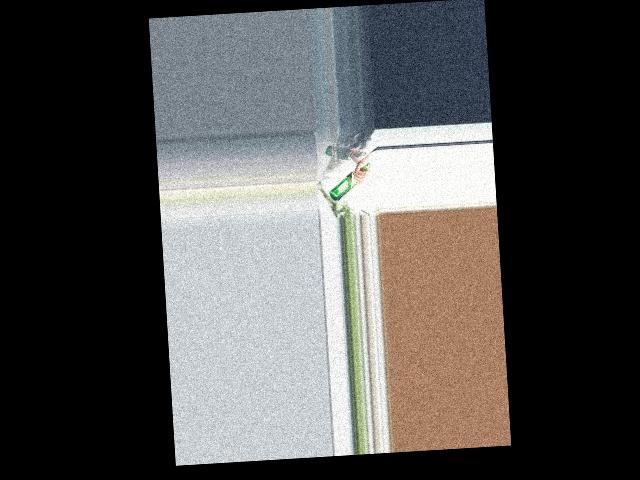beer: (327, 161, 372, 201)
